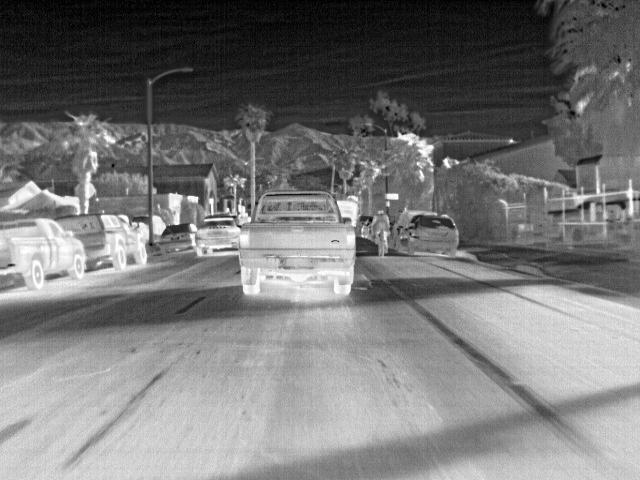car: (240, 192, 355, 296), (0, 216, 88, 288), (60, 213, 148, 270), (395, 212, 461, 258), (196, 215, 241, 255), (158, 223, 197, 257), (360, 216, 373, 237), (152, 214, 164, 230)
person: (372, 208, 392, 245)
